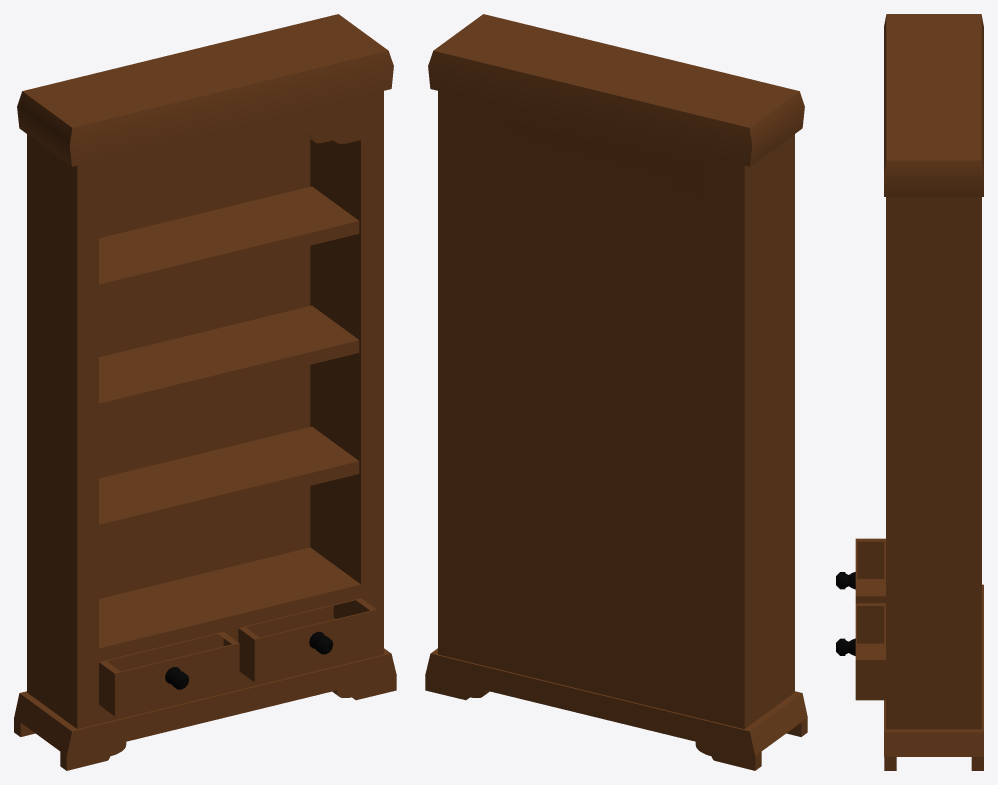
The model's file is Estantería.fbx.
3 renders of one model, left to right at view 1: azimuth 30°, elevation 25°; view 2: azimuth 150°, elevation 25°; view 3: azimuth 270°, elevation 25°, orthographic. The views are drawn at different scales.
Parts seen in each view (by area): view 1: Cube; view 2: Cube; view 3: Cube.
Part boxes in pixels (bbox=[...]): Cube: bbox=[14, 14, 396, 770]; Cube: bbox=[425, 14, 807, 770]; Cube: bbox=[836, 14, 983, 770].
Bounding box in the file's own units: 589 × 1092 × 241.
